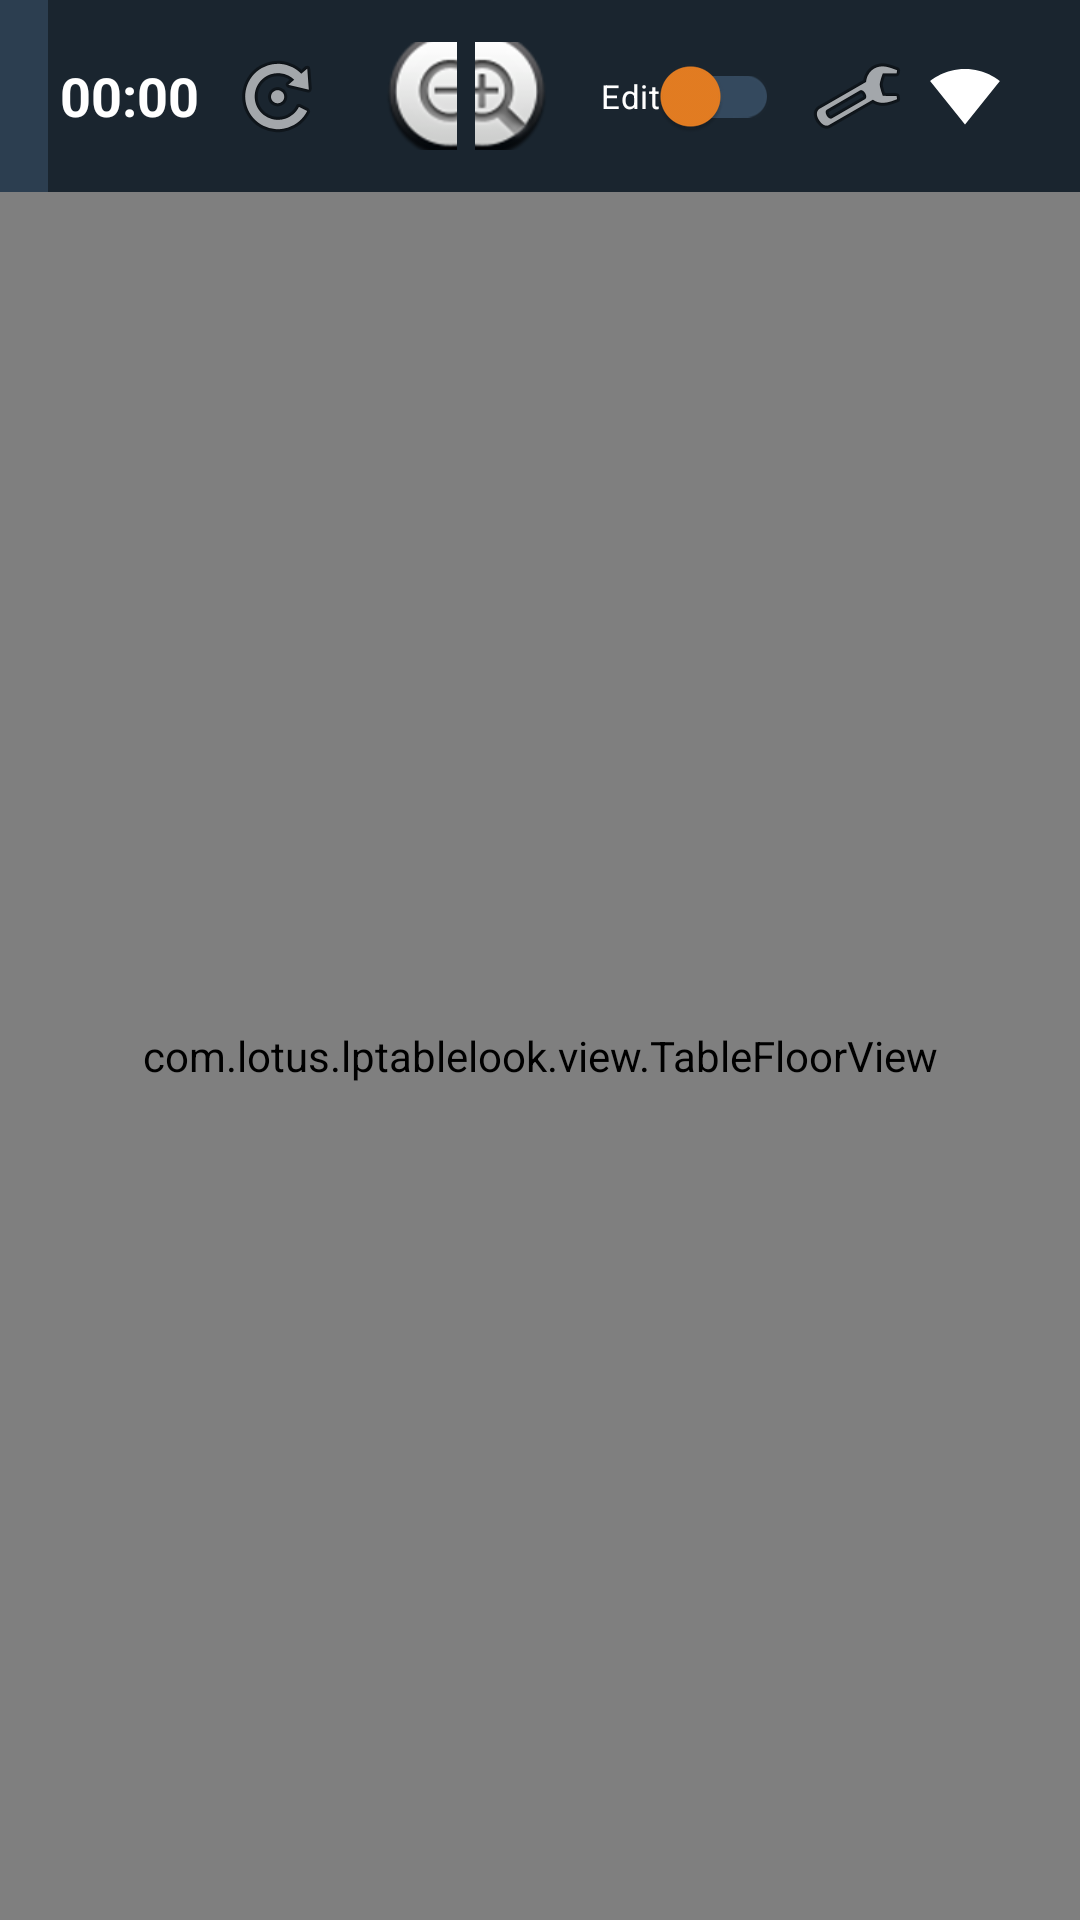

Icons on this 1080*1920 Android screen, each with the point to tap as (x,y):
Refresh: (277,96)
Scale down: (424,96)
Scale up: (509,96)
Settings: (857,96)
WiFi Status: (965,97)
